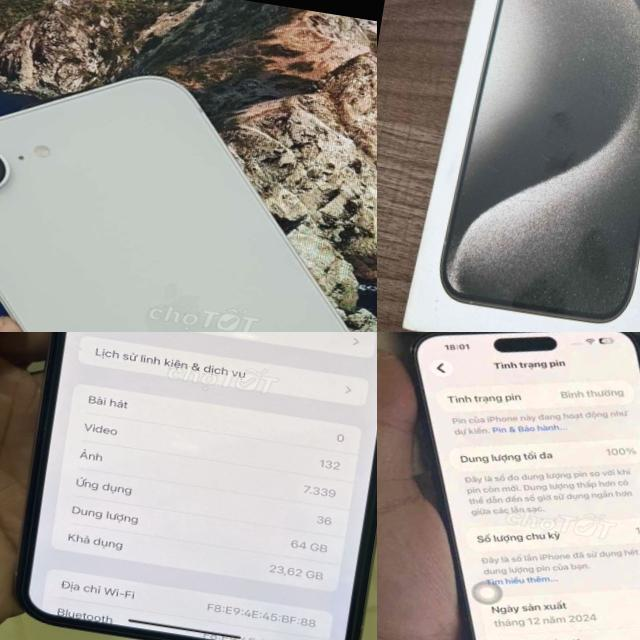gen_16: (0, 76, 351, 332), (414, 332, 640, 640)
gen_x_xs: (0, 332, 377, 640)
